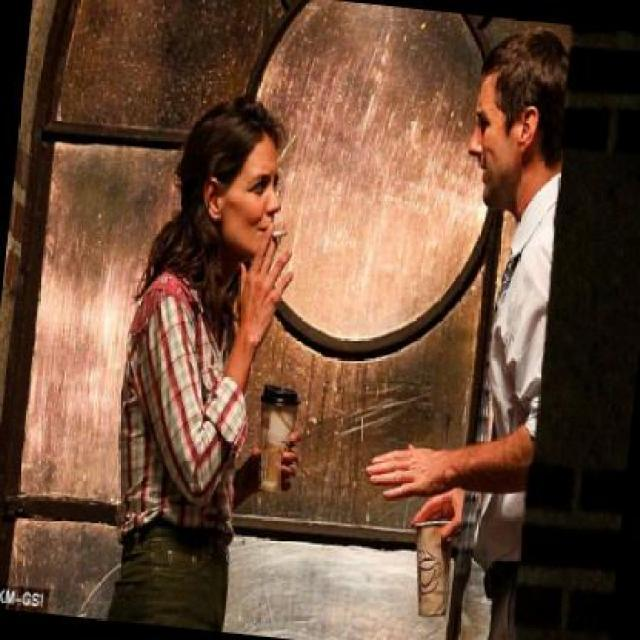cigarette: (268, 228, 290, 238)
